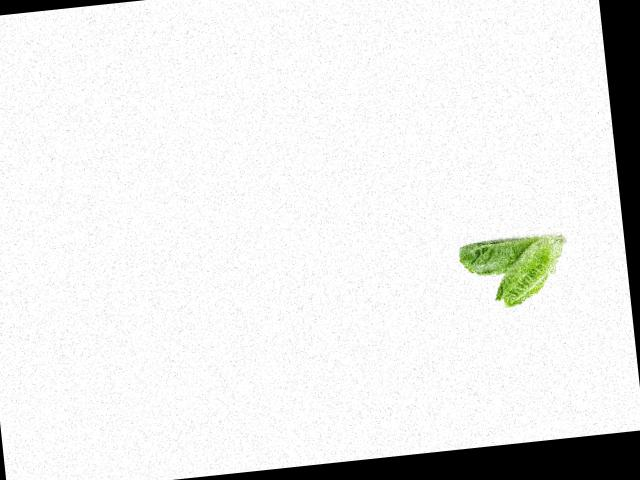lettuce: (450, 228, 546, 281)
